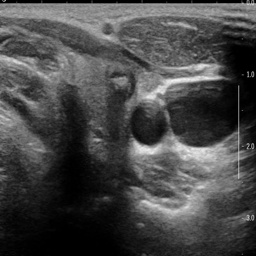mass: (108, 65, 140, 108)
